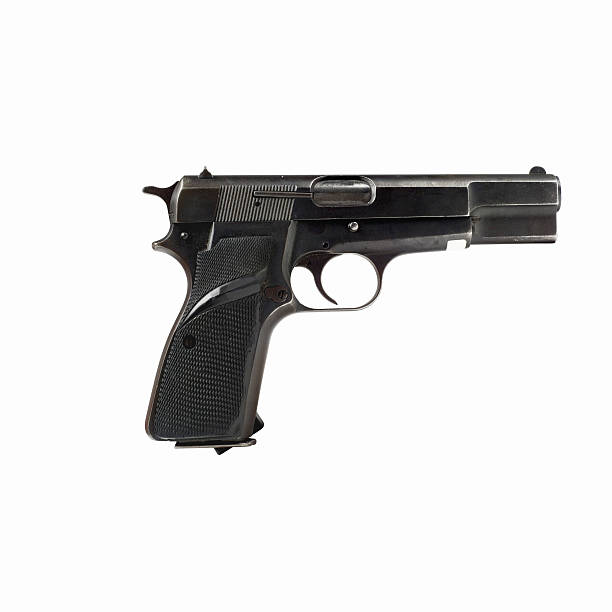pistol: (136, 159, 574, 454)
